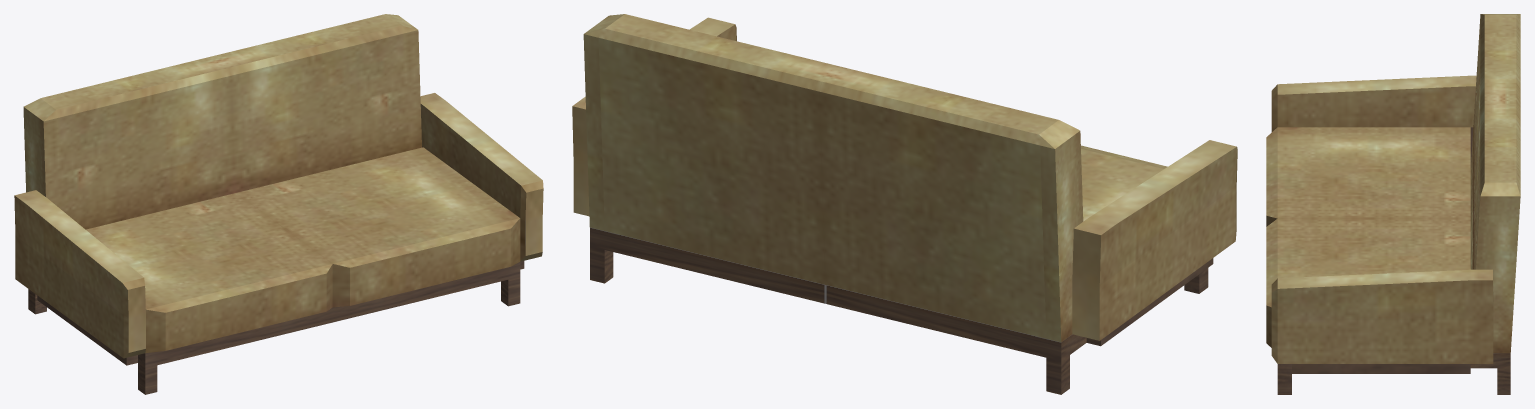
Rendered from Sofa.fbx.
The picture shows the model from 3 angles, left to right: view 1: azimuth 30°, elevation 25°; view 2: azimuth 150°, elevation 25°; view 3: azimuth 270°, elevation 25°; orthographic projection. The views are drawn at different scales.
Visible parts, largest first — view 1: Cube; view 2: Cube; view 3: Cube.
Part boxes in pixels (x1,y1,x2,y2): Cube: [14, 14, 543, 394]; Cube: [572, 14, 1237, 394]; Cube: [1266, 14, 1520, 394].
Bounding box in the file's own units: 1025 × 479 × 538.
